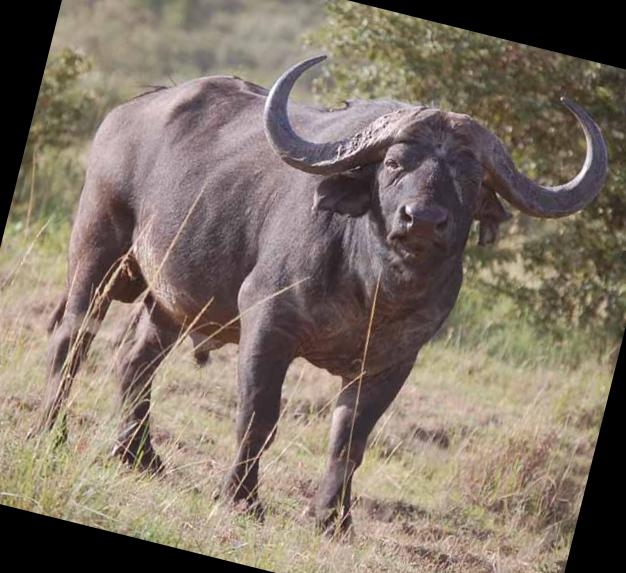Buffalo: (0, 0, 573, 573)
